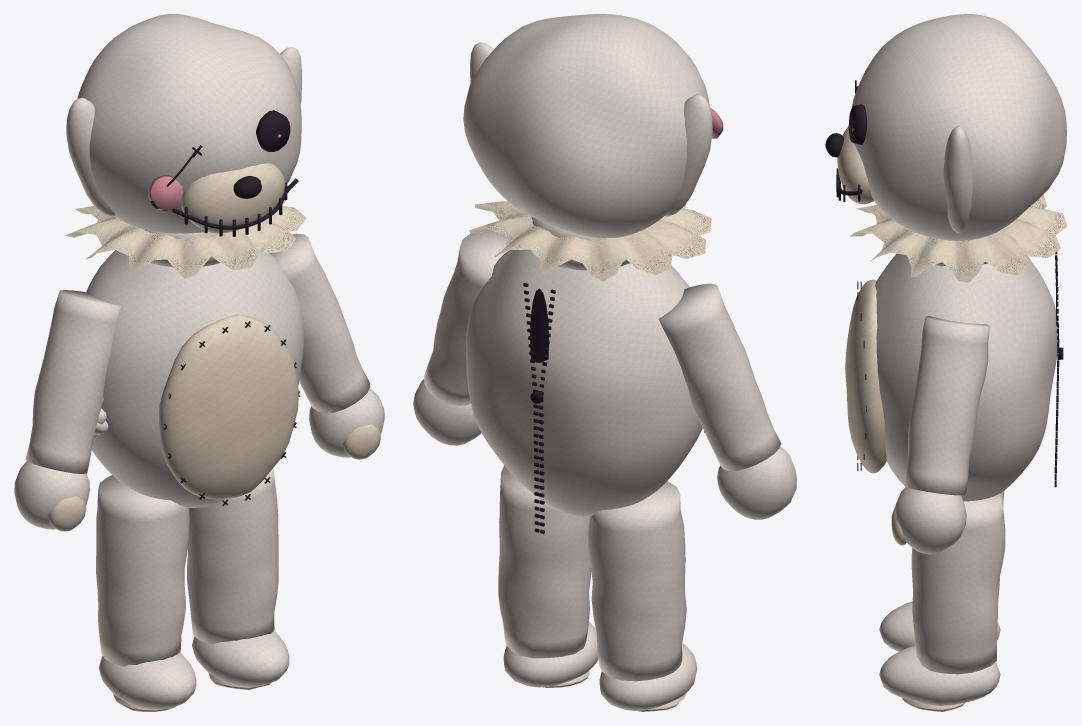
The model's file is Doux_Chien.glb.
3 renders of one model, left to right at view 1: azimuth 30°, elevation 25°; view 2: azimuth 150°, elevation 25°; view 3: azimuth 270°, elevation 25°, orthographic. The views are drawn at different scales.
Visible parts, largest first — view 1: Corps, Tete_Fourrure, Corps_Creme, Col, Tete_Creme, Tete_Details; view 2: Corps, Tete_Fourrure, Col, Fermeture, Fermeture_Trou; view 3: Corps, Tete_Fourrure, Col, Corps_Creme, Tete_Creme, Tete_Details, Fermeture.
Boxes of the visible parts, bbox=[...] form: Corps: bbox=[14, 229, 384, 709]; Tete_Fourrure: bbox=[66, 14, 301, 233]; Corps_Creme: bbox=[48, 314, 380, 711]; Col: bbox=[65, 200, 306, 278]; Tete_Creme: bbox=[181, 163, 285, 233]; Tete_Details: bbox=[148, 110, 298, 236]; Corps: bbox=[413, 217, 796, 710]; Tete_Fourrure: bbox=[463, 14, 712, 238]; Col: bbox=[469, 201, 711, 281]; Fermeture: bbox=[523, 283, 555, 533]; Fermeture_Trou: bbox=[530, 288, 549, 362]; Corps: bbox=[875, 219, 1058, 705]; Tete_Fourrure: bbox=[851, 14, 1066, 240]; Col: bbox=[850, 194, 1067, 282]; Corps_Creme: bbox=[845, 279, 964, 711]; Tete_Creme: bbox=[837, 126, 874, 204]; Tete_Details: bbox=[825, 80, 867, 201]; Fermeture: bbox=[1054, 251, 1063, 487].
Bounding box in the file's own units: 1.16 × 2.02 × 0.6852.
Materials: 6 (3 with a texture image).
